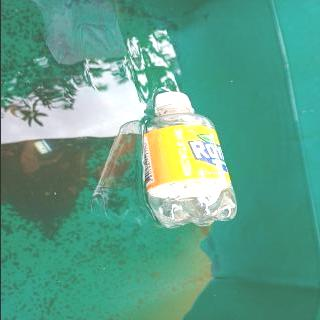bottle: (134, 87, 243, 233)
